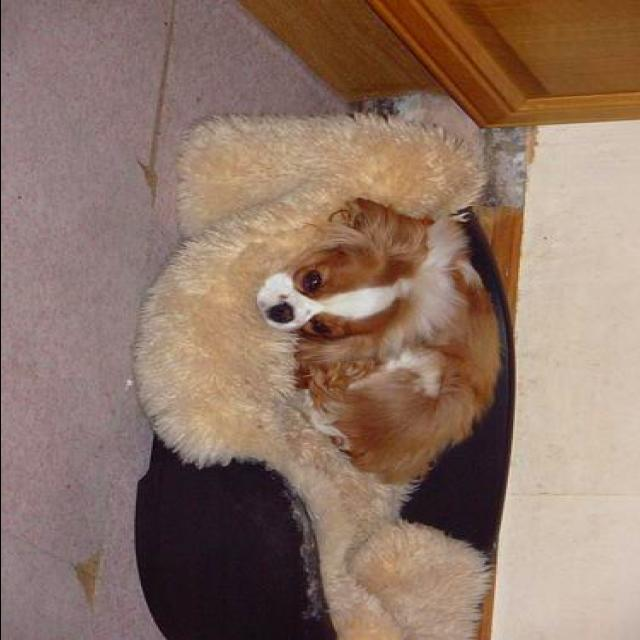blenheim_spaniel: (252, 189, 514, 492)
